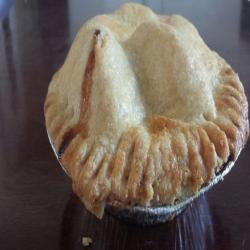apple_pie: (41, 1, 250, 233)
